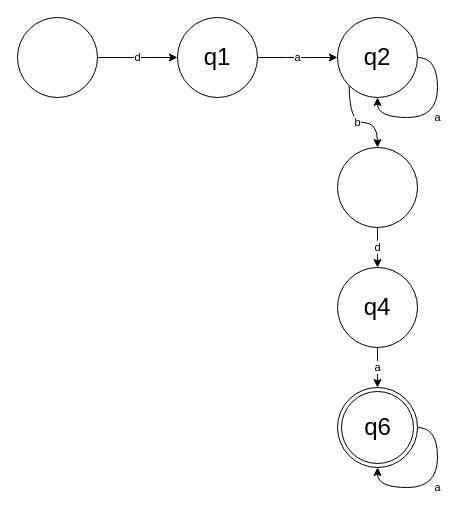
The diagram is 458 pixels wide and 511 high, and some of its shapes have lost their labels. The box of each missing label's shape, as (x1, y1, x2, y2) in pixels:
q0: (16, 16, 98, 98)
q3: (336, 146, 418, 228)
